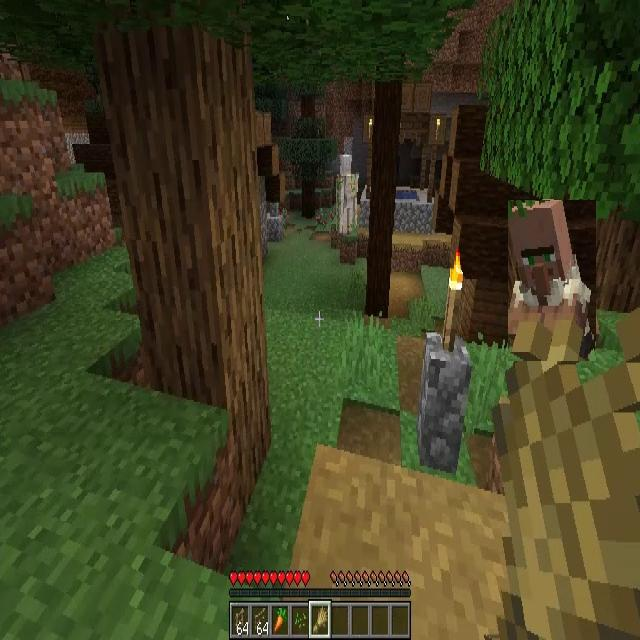people: (508, 200, 596, 361), (335, 154, 360, 235)
